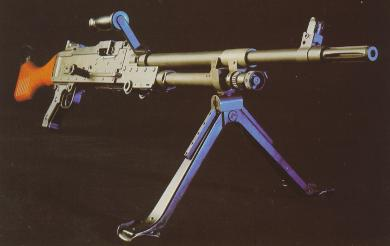rifle: (15, 9, 373, 230)
